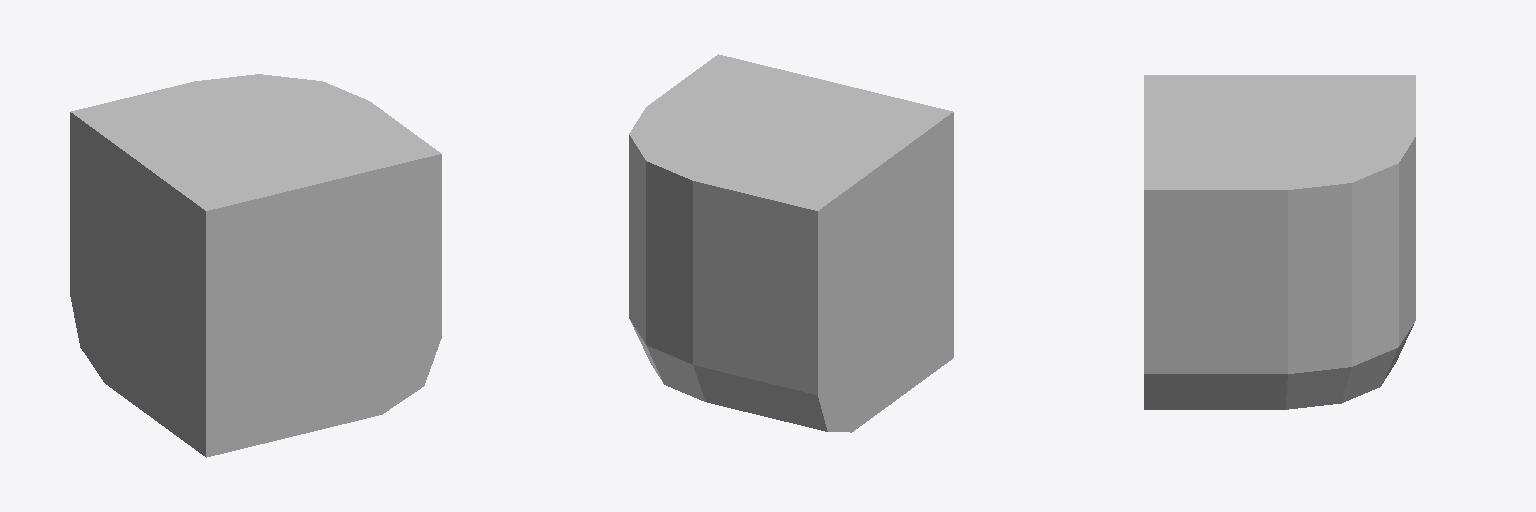
The model's file is TestCube01.obj.
3 renders of one model, left to right at view 1: azimuth 30°, elevation 25°; view 2: azimuth 150°, elevation 25°; view 3: azimuth 270°, elevation 25°, orthographic.
Parts seen in each view (by area): view 1: TestCube01; view 2: TestCube01; view 3: TestCube01.
Part boxes in pixels (left/top/right/bottom): TestCube01: left=70, top=74, right=441, bottom=457; TestCube01: left=629, top=54, right=953, bottom=432; TestCube01: left=1144, top=75, right=1415, bottom=409.
Bounding box in the file's own units: 2 × 2 × 2.